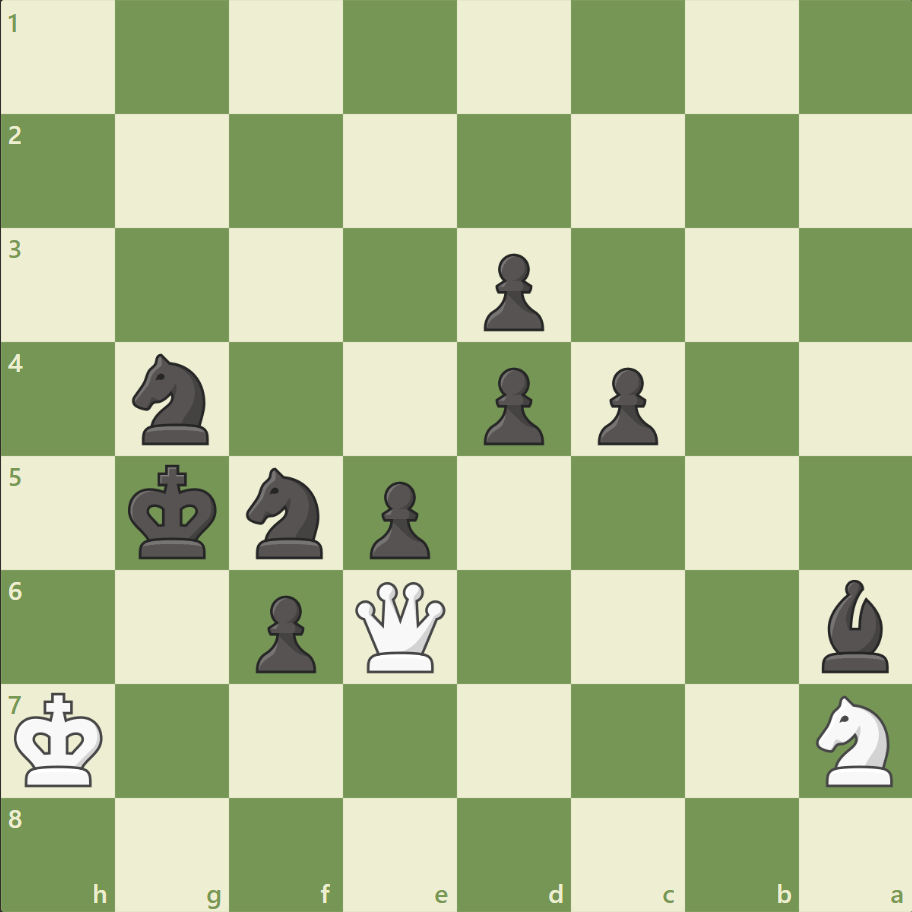K: (11, 685, 111, 793)
N: (806, 688, 903, 791)
Q: (351, 576, 450, 676)
b: (812, 574, 896, 676)
k: (124, 458, 224, 566)
n: (124, 348, 222, 450), (238, 461, 335, 564)
p: (247, 586, 322, 677), (474, 359, 549, 450), (474, 246, 549, 337), (361, 473, 435, 564), (588, 359, 662, 450)
